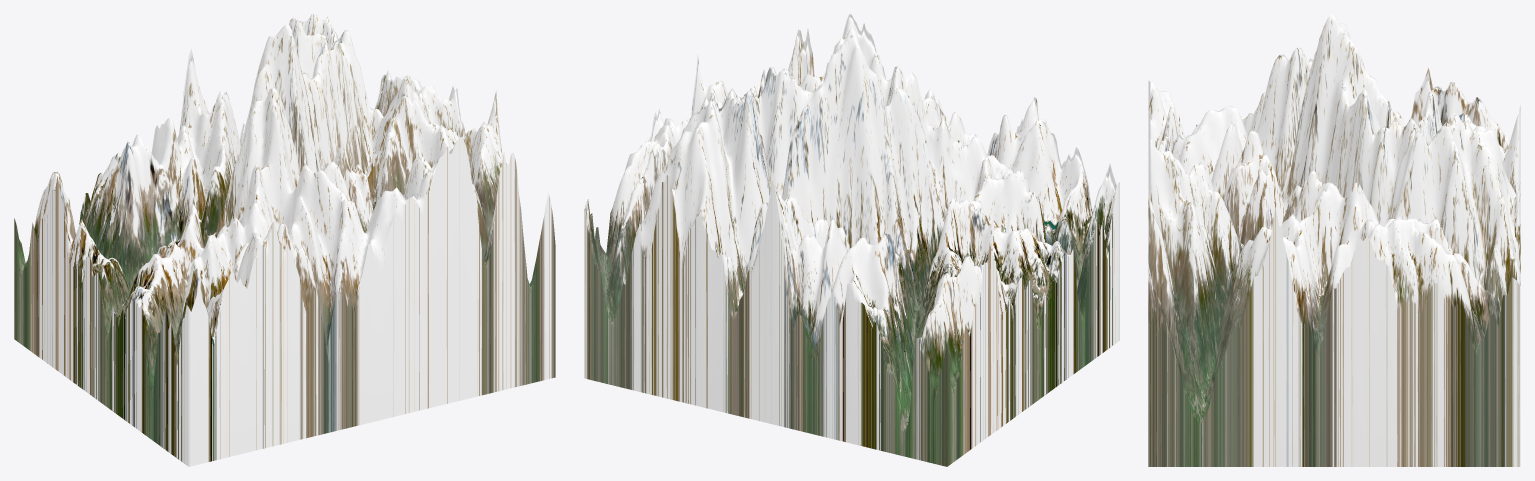
3 views of the same model, side by side, from view 1: azimuth 30°, elevation 25°; view 2: azimuth 150°, elevation 25°; view 3: azimuth 270°, elevation 25° (orthographic). The views are drawn at different scales.
Visible parts, largest first — view 1: GPXTS_terrain_mesh.002; view 2: GPXTS_terrain_mesh.002; view 3: GPXTS_terrain_mesh.002.
Boxes of the visible parts, bbox=[...] form: GPXTS_terrain_mesh.002: bbox=[14, 14, 555, 466]; GPXTS_terrain_mesh.002: bbox=[584, 14, 1119, 466]; GPXTS_terrain_mesh.002: bbox=[1148, 14, 1520, 466].
Size of the model in its own units: 200 by 175 by 165.
1 material, 1 textured.
